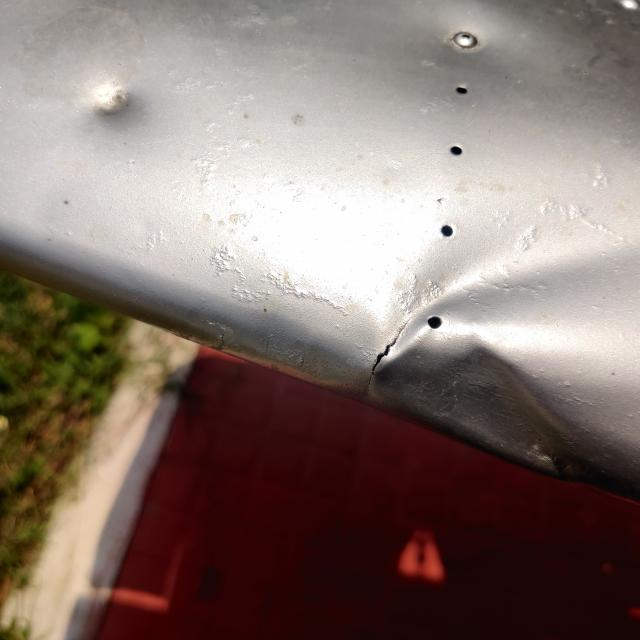crack: (348, 299, 431, 414)
dent: (356, 214, 640, 504), (71, 62, 165, 150)
